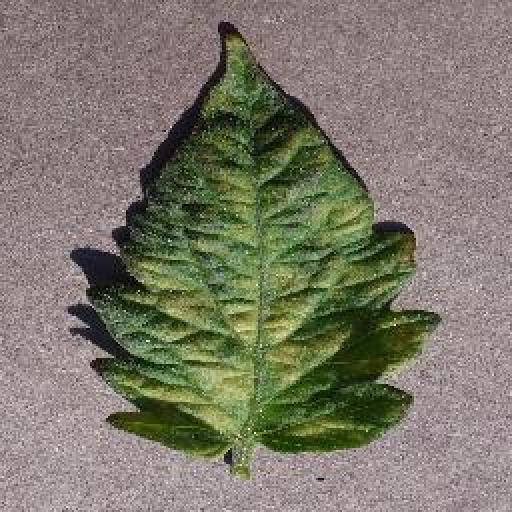disease_tomato: (89, 28, 440, 452)
